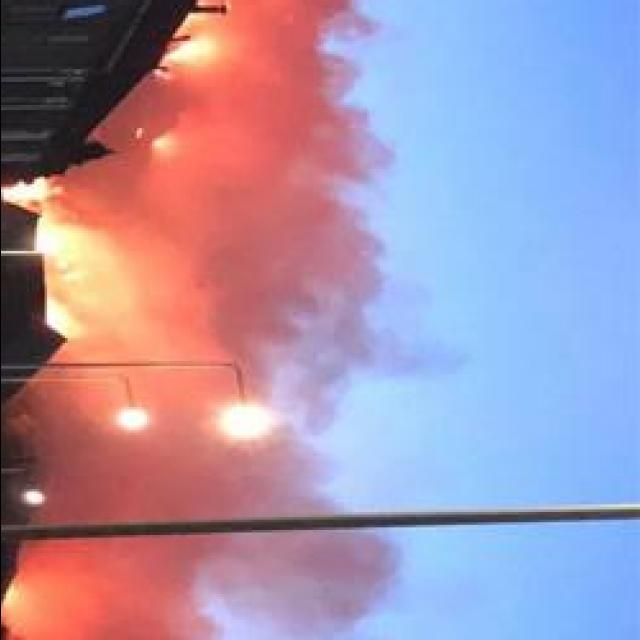fire: (36, 225, 81, 342), (212, 396, 278, 448), (170, 27, 220, 72)
smoke: (83, 186, 330, 342), (226, 0, 358, 168), (18, 540, 222, 638), (244, 538, 396, 630), (52, 450, 248, 516), (274, 213, 384, 291)
